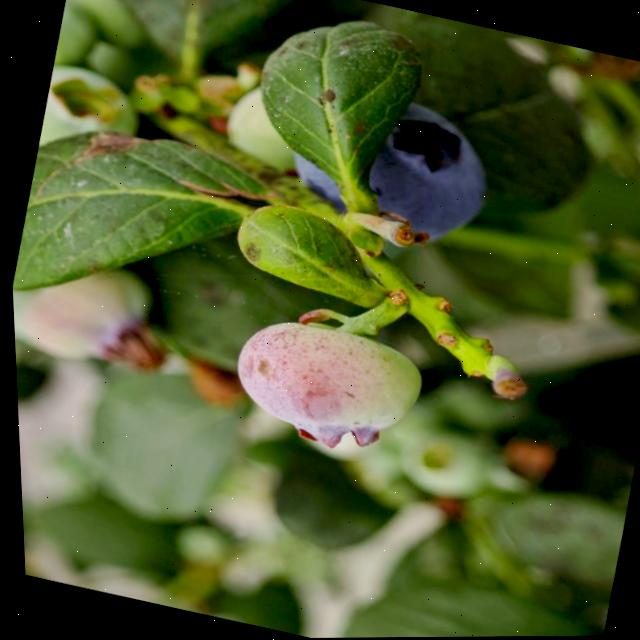RipeBlueBerry: (279, 75, 500, 247)
Semi-RipeBlueBerry: (218, 310, 432, 460)
